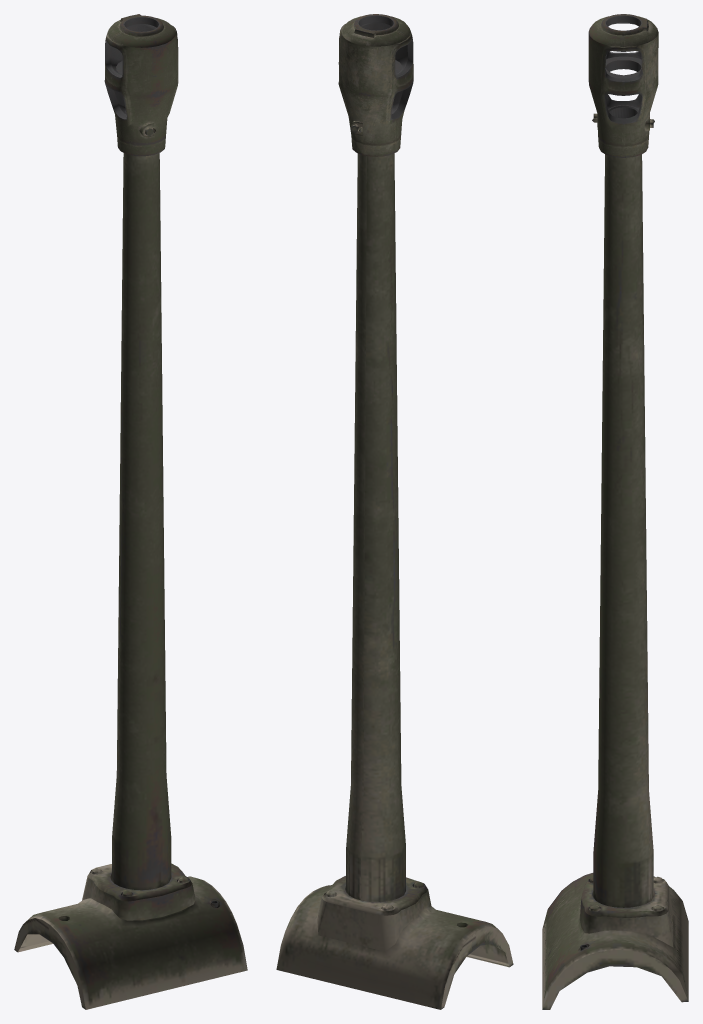
Rendered from Gun_01.glb.
The picture shows the model from 3 angles, left to right: view 1: azimuth 30°, elevation 25°; view 2: azimuth 150°, elevation 25°; view 3: azimuth 270°, elevation 25°; orthographic projection. The views are drawn at different scales.
Parts seen in each view (by area): view 1: set_0_group_0; view 2: set_0_group_0; view 3: set_0_group_0.
Boxes of the visible parts, bbox=[...] form: set_0_group_0: bbox=[14, 14, 247, 1009]; set_0_group_0: bbox=[276, 14, 513, 1009]; set_0_group_0: bbox=[542, 14, 688, 1009].
Bounding box in the file's own units: 0.8143 × 4.48 × 0.6234.
Materials: 1 (1 with a texture image).
